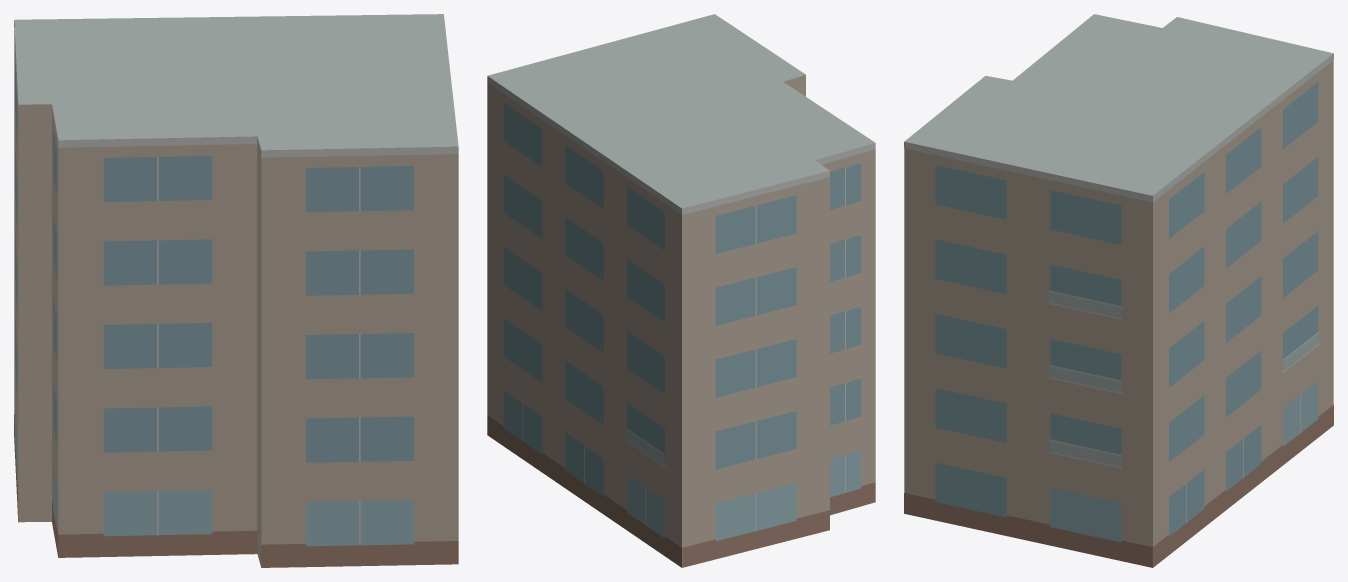
The model's file is survey-upis-32892557.glb.
3 views of the same model, side by side, from view 1: azimuth 30°, elevation 25°; view 2: azimuth 150°, elevation 25°; view 3: azimuth 270°, elevation 25° (orthographic). The views are drawn at different scales.
Visible parts, largest first — view 1: survey-upis-32892557.tmp; view 2: survey-upis-32892557.tmp; view 3: survey-upis-32892557.tmp.
Boxes of the visible parts, x1,y1,x2,y2 form: survey-upis-32892557.tmp: [14, 14, 458, 567]; survey-upis-32892557.tmp: [487, 14, 875, 567]; survey-upis-32892557.tmp: [904, 14, 1333, 567].
Size of the model in its own units: 14.38 by 13.7 by 14.35.
